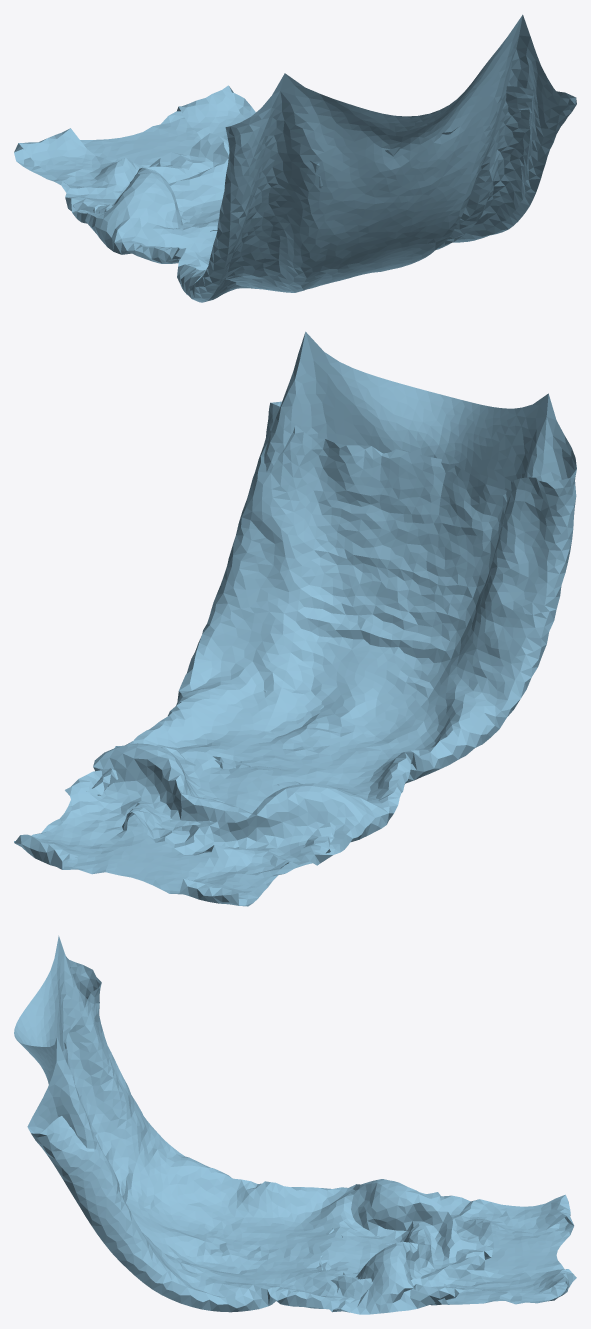
The model's file is frame_06.glb.
The picture shows the model from 3 angles, top to bottom: view 1: azimuth 30°, elevation 25°; view 2: azimuth 150°, elevation 25°; view 3: azimuth 270°, elevation 25°; orthographic projection. The views are drawn at different scales.
Visible parts, largest first — view 1: frame_06.obj; view 2: frame_06.obj; view 3: frame_06.obj.
Boxes of the visible parts, x1=… form: frame_06.obj: x1=14, y1=14, x2=576, y2=302; frame_06.obj: x1=14, y1=331, x2=576, y2=906; frame_06.obj: x1=14, y1=935, x2=576, y2=1314.
Size of the model in its own units: 0.9417 by 0.8473 by 1.6.
